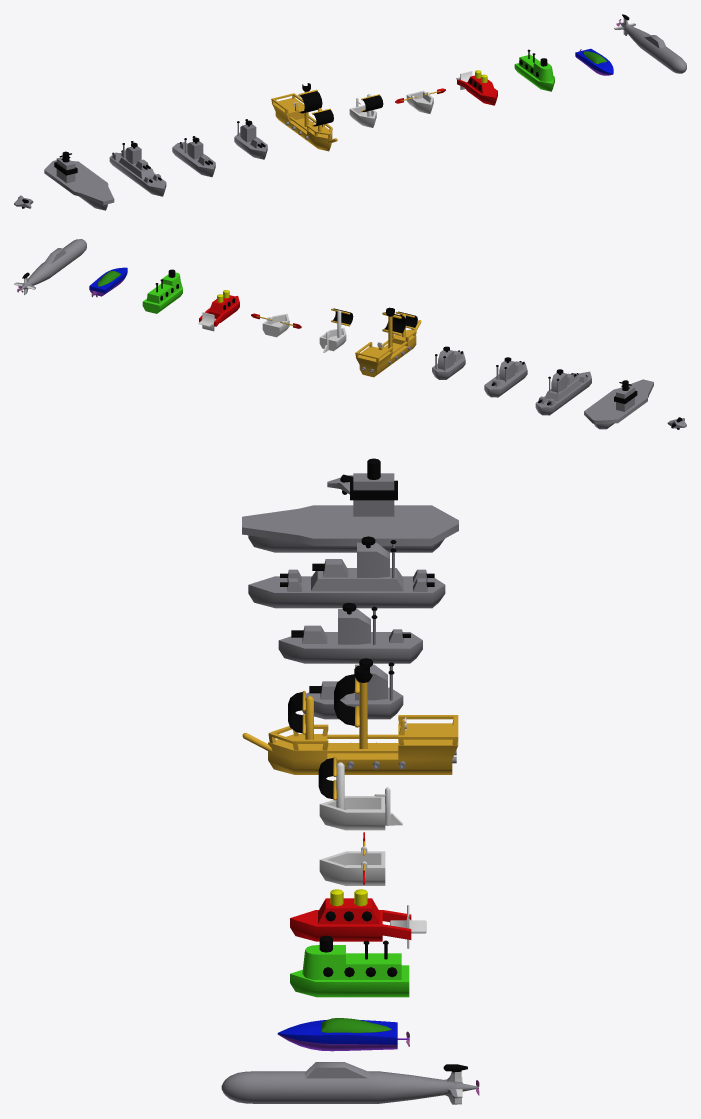
Rendered from ToyBoats.fbx.
3 renders of one model, top to bottom at view 1: azimuth 30°, elevation 25°; view 2: azimuth 150°, elevation 25°; view 3: azimuth 270°, elevation 25°, orthographic. The views are drawn at different scales.
Parts seen in each view (by area): view 1: AircraftCarrier, PirateShip, Submarine_low, BattleShip, SteamBoat, Destroyer, PaddleBoat, Frigate, Speed_Boat.002, RowBoat, SailBoat, PirateShip_Sail_Back; view 2: AircraftCarrier, PirateShip, Submarine_low, BattleShip, SteamBoat, Destroyer, PaddleBoat, Frigate, Speed_Boat.002, SailBoat, RowBoat, PirateShip_Sail_Back; view 3: AircraftCarrier, PirateShip, Submarine_low, BattleShip, SteamBoat, Destroyer, PaddleBoat, Speed_Boat.002, SailBoat, Frigate, RowBoat, PirateShip_Sail_Back.
Part boxes in pixels (x1,y1,x2,y2): AircraftCarrier: [44, 151, 114, 210]; PirateShip: [271, 83, 337, 151]; Submarine_low: [614, 14, 686, 73]; BattleShip: [109, 141, 166, 196]; SteamBoat: [514, 49, 554, 91]; Destroyer: [172, 136, 215, 176]; PaddleBoat: [457, 70, 497, 105]; Frigate: [234, 119, 267, 159]; Speed_Boat.002: [575, 48, 613, 75]; RowBoat: [406, 90, 433, 113]; SailBoat: [349, 94, 376, 127]; PirateShip_Sail_Back: [298, 89, 322, 113]; AircraftCarrier: [584, 379, 653, 429]; PirateShip: [355, 307, 421, 377]; Submarine_low: [14, 239, 86, 294]; BattleShip: [535, 369, 591, 415]; SteamBoat: [142, 269, 182, 313]; Destroyer: [484, 357, 527, 397]; PaddleBoat: [199, 290, 239, 326]; Frigate: [432, 346, 465, 379]; Speed_Boat.002: [89, 267, 127, 296]; SailBoat: [319, 310, 346, 351]; RowBoat: [262, 313, 289, 337]; PirateShip_Sail_Back: [382, 312, 406, 335]; AircraftCarrier: [242, 458, 458, 552]; PirateShip: [242, 665, 458, 774]; Submarine_low: [221, 1062, 476, 1104]; BattleShip: [248, 536, 445, 608]; SteamBoat: [290, 935, 409, 997]; Destroyer: [278, 602, 422, 663]; PaddleBoat: [290, 889, 411, 941]; Speed_Boat.002: [277, 1018, 397, 1051]; SailBoat: [319, 762, 385, 830]; Frigate: [302, 658, 403, 719]; RowBoat: [319, 846, 385, 885]; PirateShip_Sail_Back: [334, 674, 359, 727].
Bounding box in the file's own units: 340 × 27.17 × 58.8.
